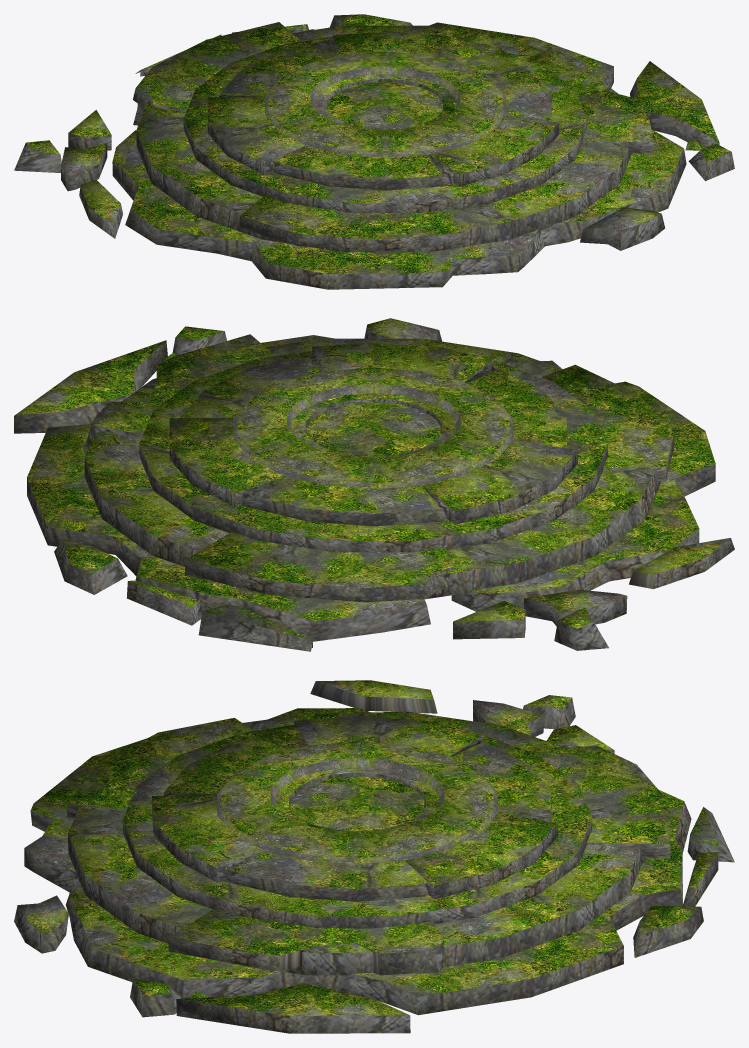
Rendered from S_Rock_Green050.FBX.
3 renders of one model, top to bottom at view 1: azimuth 30°, elevation 25°; view 2: azimuth 150°, elevation 25°; view 3: azimuth 270°, elevation 25°, orthographic. The views are drawn at different scales.
Parts seen in each view (by area): view 1: S_Rock_Green050; view 2: S_Rock_Green050; view 3: S_Rock_Green050.
Boxes of the visible parts, x1,y1,x2,y2 form: S_Rock_Green050: [14, 14, 734, 289]; S_Rock_Green050: [14, 318, 734, 651]; S_Rock_Green050: [14, 680, 734, 1033].
Bounding box in the file's own units: 693 × 644 × 76.36.
